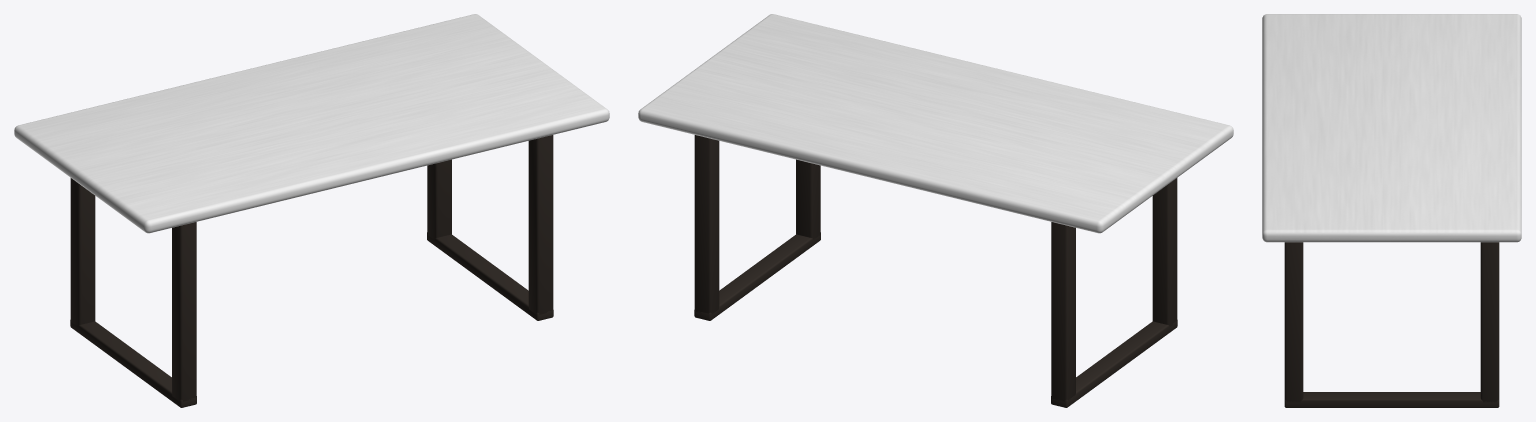
File: table-rectangular.glb
3 renders of one model, left to right at view 1: azimuth 30°, elevation 25°; view 2: azimuth 150°, elevation 25°; view 3: azimuth 270°, elevation 25°, orthographic. The views are drawn at different scales.
Parts seen in each view (by area): view 1: Rounded solid-wood tabletop, Satin steel upright.002, Satin steel upright, Satin steel upright.001, Steel sled foot.001, Steel sled foot, Satin steel upright.003; view 2: Rounded solid-wood tabletop, Satin steel upright.003, Satin steel upright.001, Satin steel upright, Steel sled foot.001, Steel sled foot, Satin steel upright.002; view 3: Rounded solid-wood tabletop, Satin steel upright.002, Satin steel upright.003, Steel sled foot.001.
Part boxes in pixels (x1,y1,x2,y2): Rounded solid-wood tabletop: (14, 14, 609, 233); Satin steel upright.002: (528, 135, 553, 314); Satin steel upright: (172, 222, 196, 401); Satin steel upright.001: (70, 178, 95, 325); Steel sled foot.001: (427, 232, 553, 320); Steel sled foot: (70, 320, 196, 407); Satin steel upright.003: (427, 159, 451, 239); Rounded solid-wood tabletop: (638, 14, 1233, 233); Satin steel upright.003: (694, 135, 719, 314); Satin steel upright.001: (1051, 222, 1075, 401); Satin steel upright: (1152, 178, 1177, 326); Steel sled foot.001: (694, 232, 820, 320); Steel sled foot: (1051, 320, 1177, 407); Satin steel upright.002: (796, 159, 820, 239); Rounded solid-wood tabletop: (1262, 14, 1521, 242); Satin steel upright.002: (1284, 242, 1303, 402); Satin steel upright.003: (1480, 242, 1499, 402); Steel sled foot.001: (1284, 392, 1499, 407).
Bounding box in the file's own units: 1.8 × 0.76 × 0.9.
Materials: 2 (1 with a texture image).
